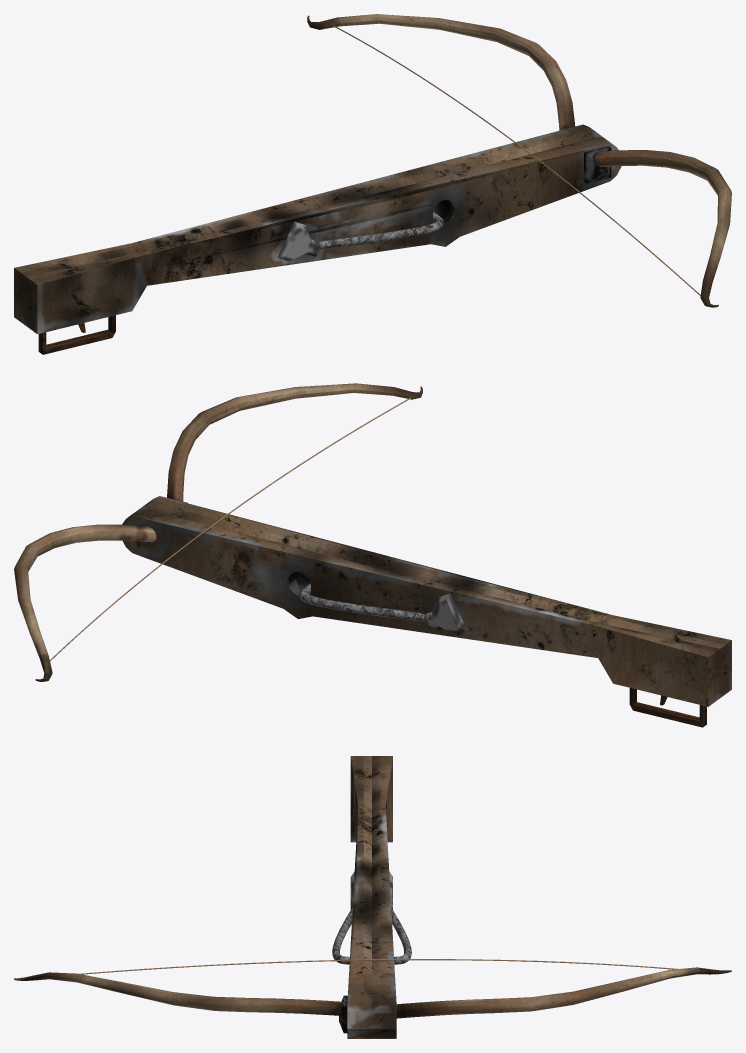
The model's file is Arbalète texture .fbx.
3 views of the same model, one above another, from view 1: azimuth 30°, elevation 25°; view 2: azimuth 150°, elevation 25°; view 3: azimuth 270°, elevation 25° (orthographic). The views are drawn at different scales.
Parts seen in each view (by area): view 1: NurbsPath; view 2: NurbsPath; view 3: NurbsPath.
Boxes of the visible parts, bbox=[...] form: NurbsPath: bbox=[14, 14, 731, 354]; NurbsPath: bbox=[14, 383, 731, 727]; NurbsPath: bbox=[14, 756, 731, 1038].
Size of the model in its own units: 44.44 by 7.44 by 50.39.
